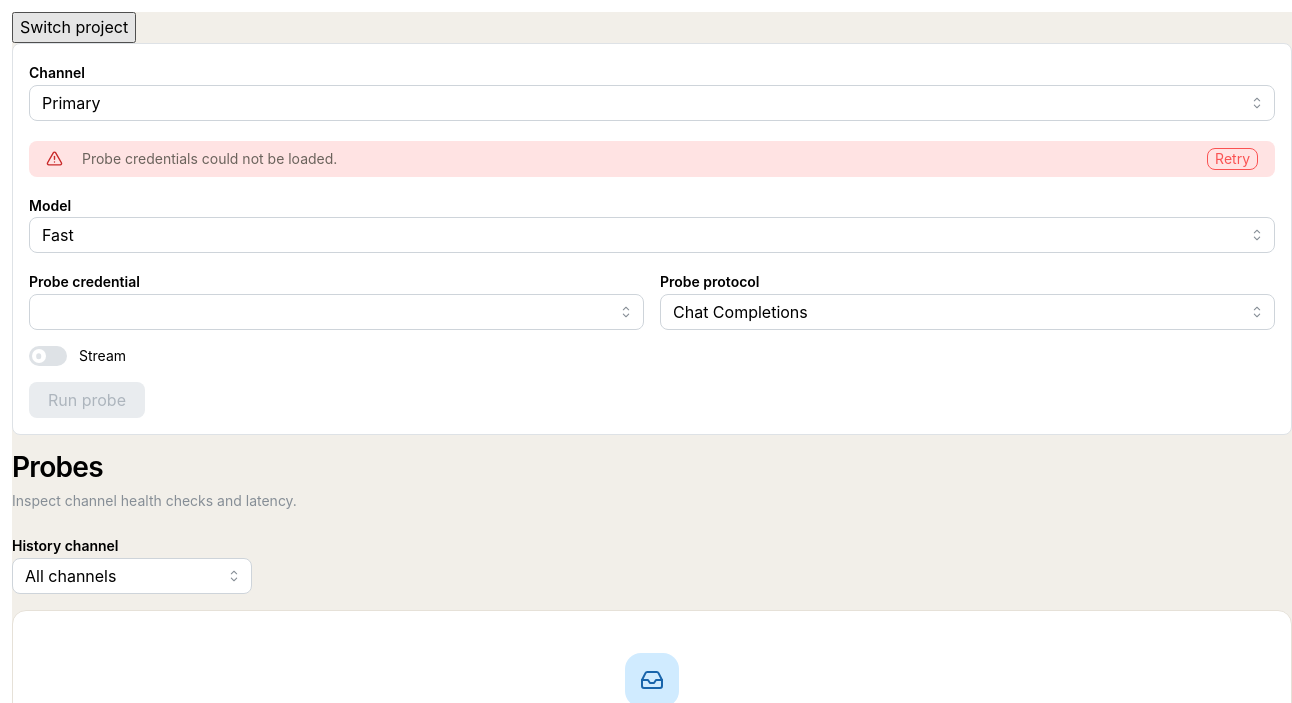
it: blocks selection when credential lookup fails and retries to an explicit empty state
expect the text "Probe credentials could not be loaded." is shown: met, box [82,148,337,169]
expect the button "Run probe" is disabled: met, box [29,382,145,418]
Click the button "Retry": (1233, 159) [1207,148,1258,170]
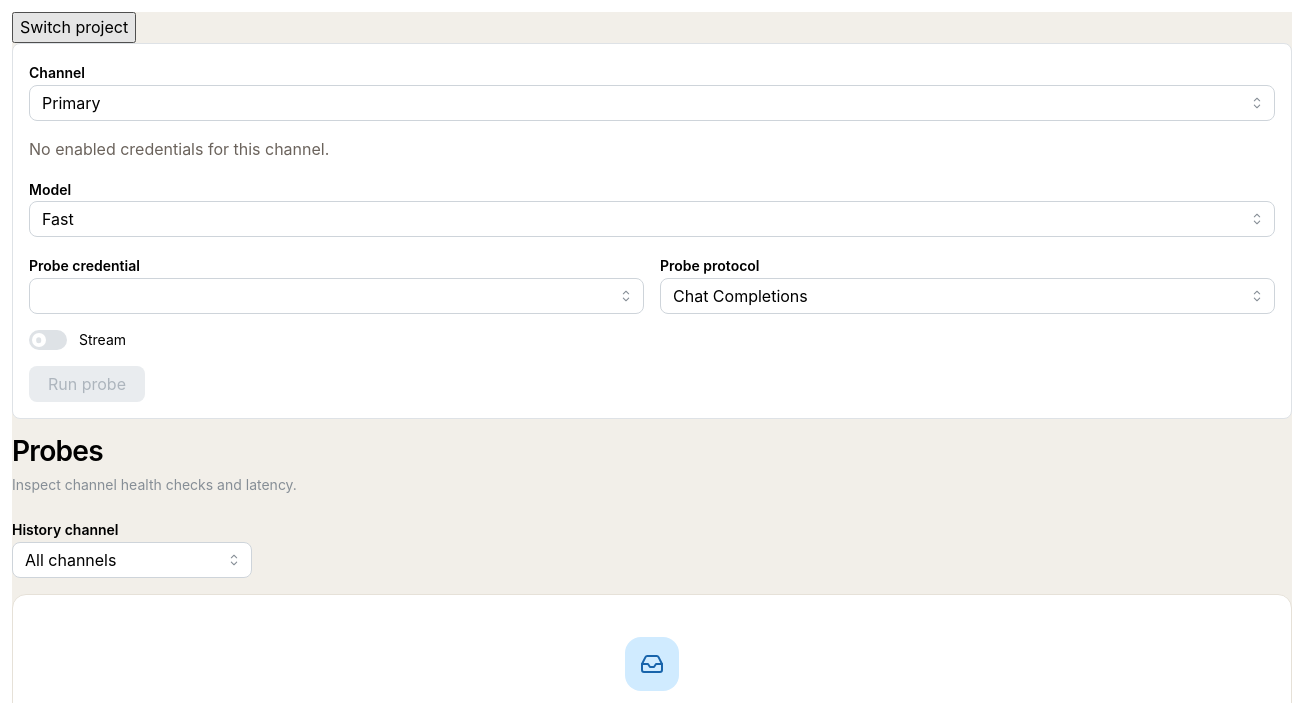
expect the button "Run probe" is disabled: met, box [29,366,145,402]
expect the text "No enabled credentials for this channel." is shown: met, box [29,139,329,159]
